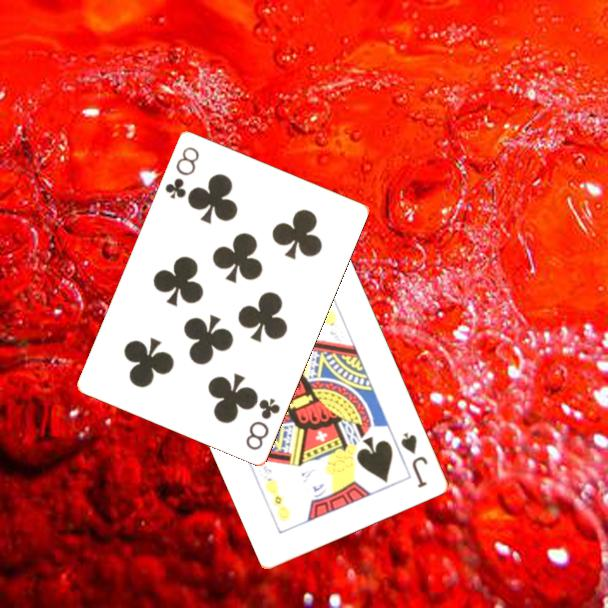c08: (242, 394, 283, 453), (161, 143, 202, 201)
s11: (398, 429, 431, 491)
